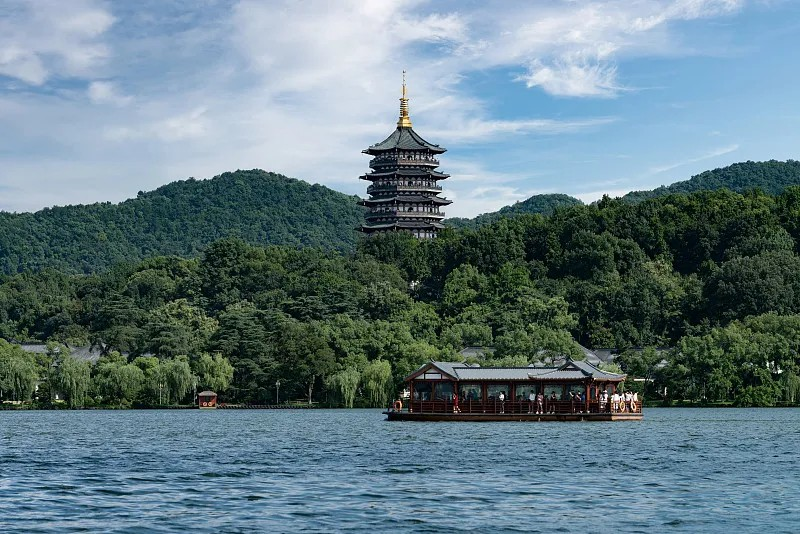Leifeng: (356, 69, 450, 246)
